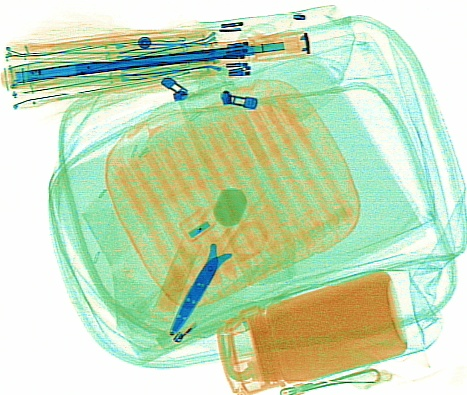scissors: (165, 202, 269, 336)
